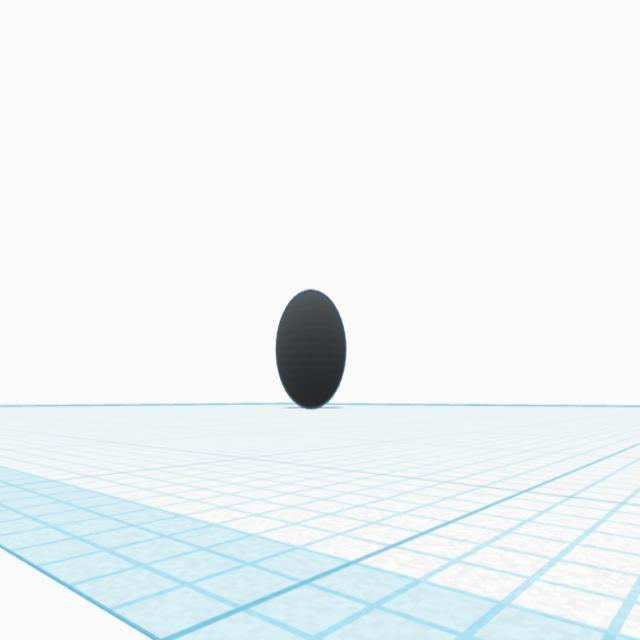sphere: (273, 284, 349, 416)
